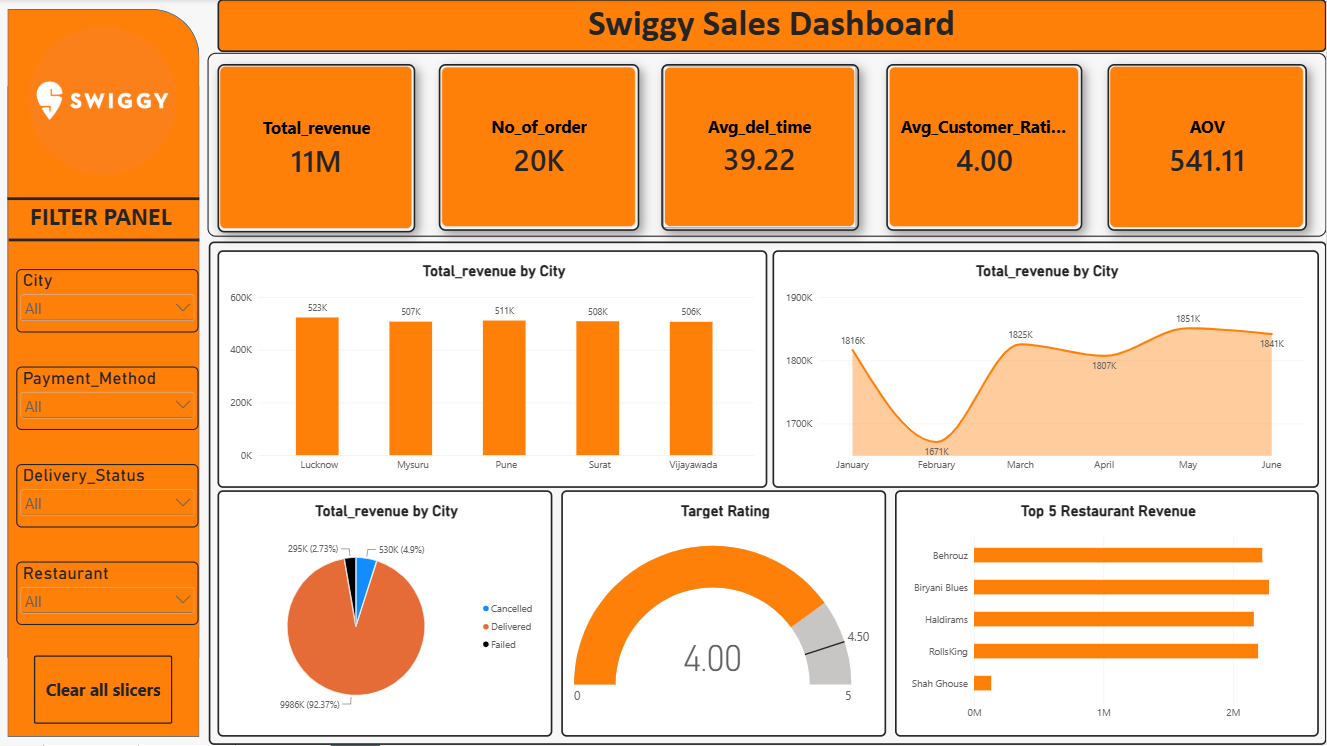

This screenshot's page, from the dashboard's own definition file:
{"tool":"powerbi","page":{"name":"Page 2","canvas":[1920,1080],"ordinal":1},"visuals":[{"type":"textbox","box":[300.4,77.8,1619.6,266],"z":0},{"type":"textbox","box":[301.5,350.6,1618.5,729.1],"z":1000},{"type":"textbox","box":[314.3,0,1605.7,77],"z":2000},{"type":"cardVisual","fields":{"Data":["Swiggy_DataSet.Total_revenue"]},"box":[314.3,94.1,286.5,243.7],"z":3000},{"type":"cardVisual","fields":{"Data":["Swiggy_DataSet.no_of_order"]},"box":[635,94.1,290.8,241.6],"z":4000},{"type":"cardVisual","fields":{"Data":["Swiggy_DataSet.AOV"]},"box":[1603.6,94.1,288.6,241.6],"z":5000},{"type":"cardVisual","fields":{"Data":["Swiggy_DataSet.Avg_del_time"]},"box":[957.9,94.1,286.5,241.6],"z":6000},{"type":"cardVisual","fields":{"Data":["Swiggy_DataSet.Avg_Customer_Rating"]},"box":[1282.9,94.1,284.4,241.6],"z":7000},{"type":"shape","box":[10.7,15,278,1054.1],"z":8000},{"type":"shape","box":[10.7,239.5,278,100.5],"z":9000},{"type":"textbox","box":[0,290.8,300.4,59.7],"z":10000},{"type":"slicer","fields":{"Values":["Swiggy_DataSet.City"]},"box":[23.5,390.9,264.2,92.3],"z":11000},{"type":"slicer","fields":{"Values":["Swiggy_DataSet.Delivery_Status"]},"box":[23.5,673.2,264.2,92.3],"z":12000},{"type":"slicer","fields":{"Values":["Swiggy_DataSet.Payment_Method"]},"box":[23.5,532,264.2,92.3],"z":13000},{"type":"slicer","fields":{"Values":["Swiggy_DataSet.Restaurant"]},"box":[23.5,814.3,264.2,92.3],"z":14000},{"type":"actionButton","box":[48.9,950.1,200.9,99.5],"z":15000},{"type":"columnChart","title":"Total_revenue by City","fields":{"Category":["Swiggy_DataSet.City"],"Y":["Swiggy_DataSet.Total_revenue"]},"box":[314.9,363.7,796.3,343.8],"z":16000},{"type":"lineChart","title":"Total_revenue by City","fields":{"Category":["Swiggy_DataSet.Order_Date.Variation.Date Hierarchy.Month"],"Y":["Swiggy_DataSet.Total_revenue"]},"box":[1118.4,363.7,790.8,343.8],"z":17000},{"type":"pieChart","title":"Total_revenue by City","fields":{"Category":["Swiggy_DataSet.Delivery_Status"],"Y":["Swiggy_DataSet.Total_revenue"]},"box":[314.9,711.2,485,356.5],"z":18000},{"type":"gauge","title":"Target Rating","fields":{"MaxValue":["Swiggy_DataSet.max_rating"],"MinValue":["Swiggy_DataSet.min_value"],"TargetValue":["Swiggy_DataSet.Target"],"Y":["Swiggy_DataSet.Avg_Customer_Rating"]},"box":[812.5,711.2,470.5,356.5],"z":19000},{"type":"barChart","title":"Top 5 Restaurant Revenue","fields":{"Category":["Swiggy_DataSet.Restaurant"],"Y":["Swiggy_DataSet.Total_revenue"]},"box":[1295.7,711.2,613.5,356.5],"z":20000},{"type":"shape","box":[12.8,299.3,275.8,100.5],"z":21000},{"type":"image","box":[6.4,38.5,282.2,218.1],"z":22000}]}

Visuals, with their boxes in screenshot pixels (x1, y1, x2, y2), scaled from the page's 1920x1080 canvas onto the 1327x746 screenshot:
textbox: (x1=208, y1=54, x2=1326, y2=237)
textbox: (x1=208, y1=242, x2=1326, y2=745)
textbox: (x1=217, y1=0, x2=1326, y2=53)
cardVisual - Swiggy_DataSet.Total_revenue: (x1=217, y1=65, x2=415, y2=233)
cardVisual - Swiggy_DataSet.no_of_order: (x1=439, y1=65, x2=640, y2=232)
cardVisual - Swiggy_DataSet.AOV: (x1=1108, y1=65, x2=1308, y2=232)
cardVisual - Swiggy_DataSet.Avg_del_time: (x1=662, y1=65, x2=860, y2=232)
cardVisual - Swiggy_DataSet.Avg_Customer_Rating: (x1=887, y1=65, x2=1083, y2=232)
shape: (x1=7, y1=10, x2=200, y2=738)
shape: (x1=7, y1=165, x2=200, y2=235)
textbox: (x1=0, y1=201, x2=208, y2=242)
slicer - Swiggy_DataSet.City: (x1=16, y1=270, x2=199, y2=334)
slicer - Swiggy_DataSet.Delivery_Status: (x1=16, y1=465, x2=199, y2=529)
slicer - Swiggy_DataSet.Payment_Method: (x1=16, y1=367, x2=199, y2=431)
slicer - Swiggy_DataSet.Restaurant: (x1=16, y1=562, x2=199, y2=626)
actionButton: (x1=34, y1=656, x2=173, y2=725)
"Total_revenue by City" columnChart: (x1=218, y1=251, x2=768, y2=489)
"Total_revenue by City" lineChart: (x1=773, y1=251, x2=1320, y2=489)
"Total_revenue by City" pieChart: (x1=218, y1=491, x2=553, y2=738)
"Target Rating" gauge: (x1=562, y1=491, x2=887, y2=738)
"Top 5 Restaurant Revenue" barChart: (x1=896, y1=491, x2=1320, y2=738)
shape: (x1=9, y1=207, x2=199, y2=276)
image: (x1=4, y1=27, x2=199, y2=177)
